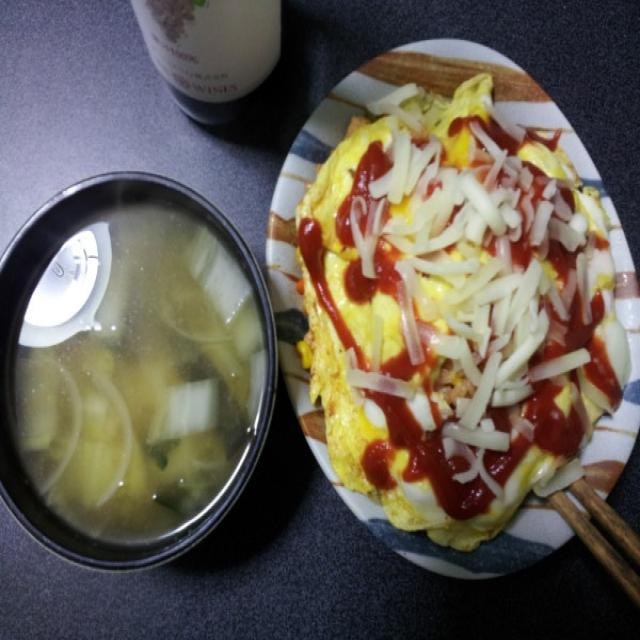汤锅炖物: (0, 164, 288, 579)
